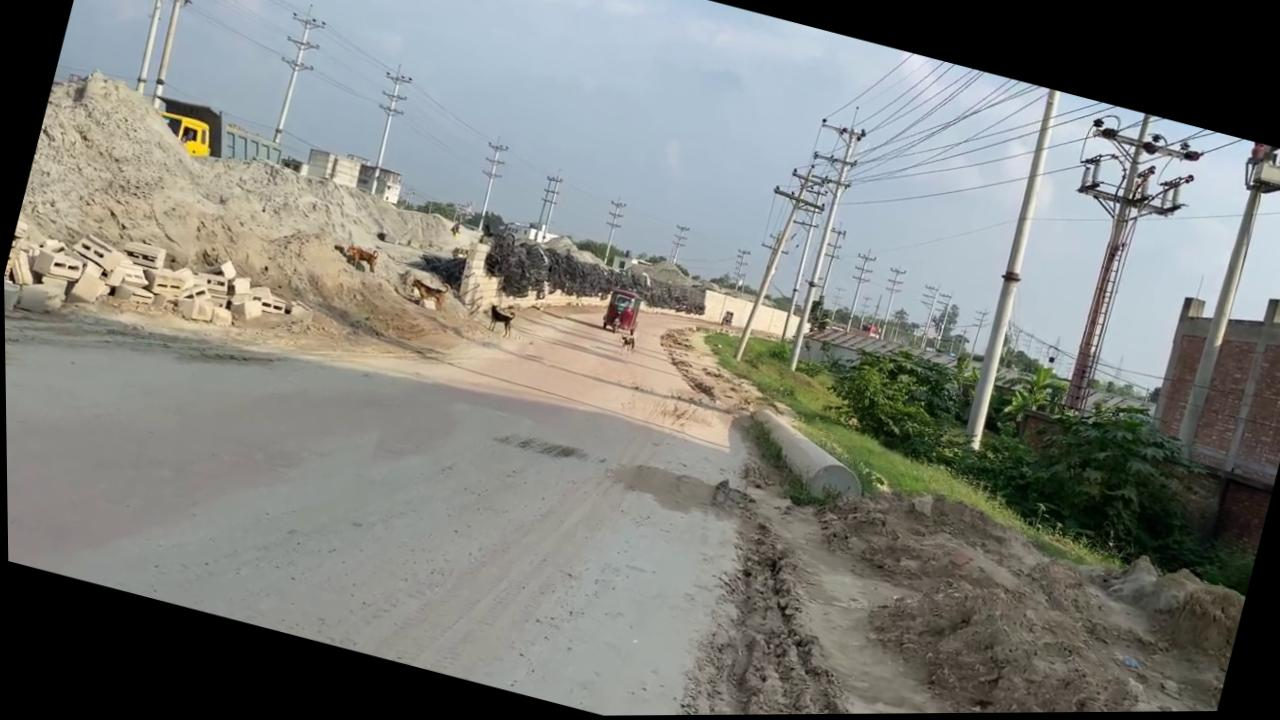Dog: (405, 276, 449, 313), (341, 241, 380, 275), (483, 304, 516, 339), (615, 333, 636, 355)
Garbage: (2, 202, 318, 390), (471, 215, 714, 346)
Pole: (951, 91, 1073, 454), (116, 0, 187, 94)
Tree: (148, 93, 291, 180), (149, 107, 217, 161), (598, 286, 643, 339)
